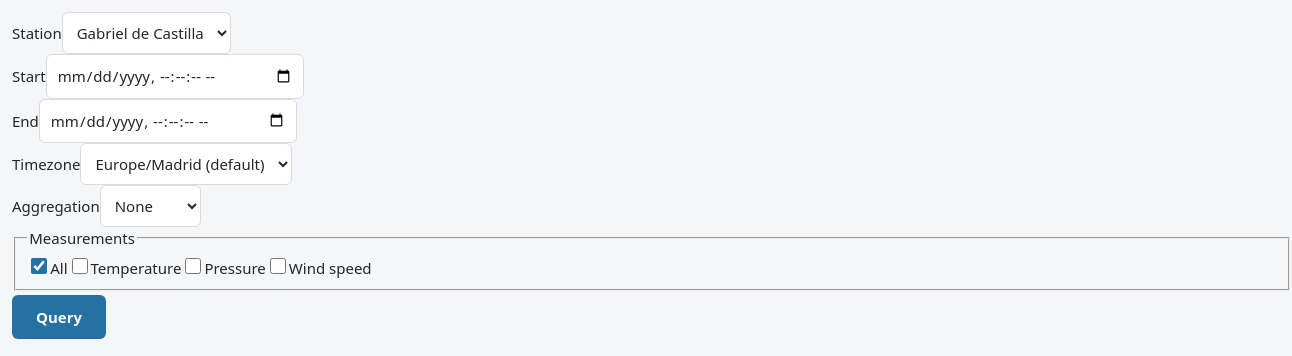
QueryForm › unchecking the only selected measurement falls back to "All"
This screenshot has width=1292, height=356.
Click the checkbox labelled "Pressure".
click(193, 266)  # box [185,258,201,274]
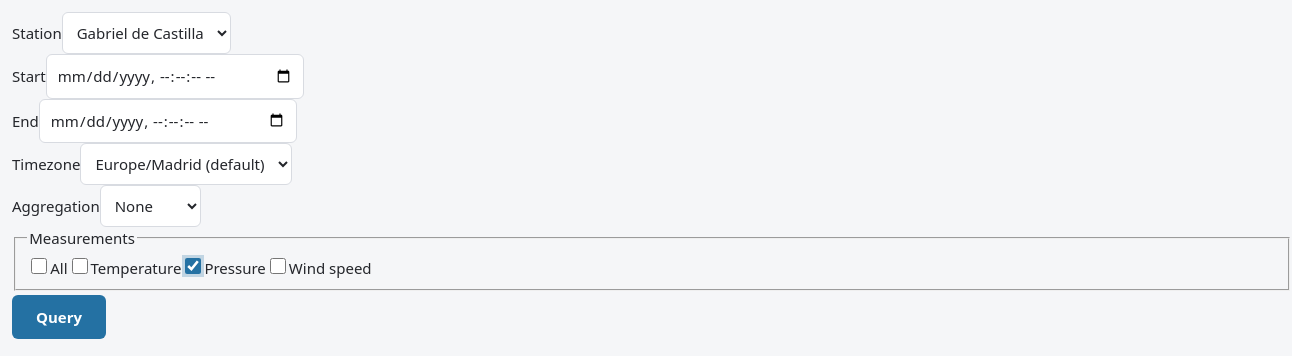
Click the checkbox labelled "Pressure".
click(193, 266)  # box [185,258,201,274]
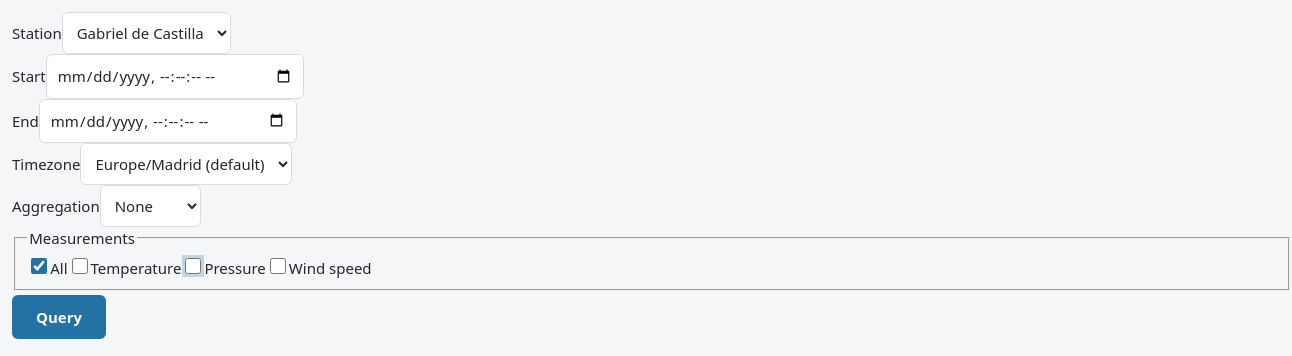
Now the checkbox labelled "All" is checked, box [31,258,47,274]
